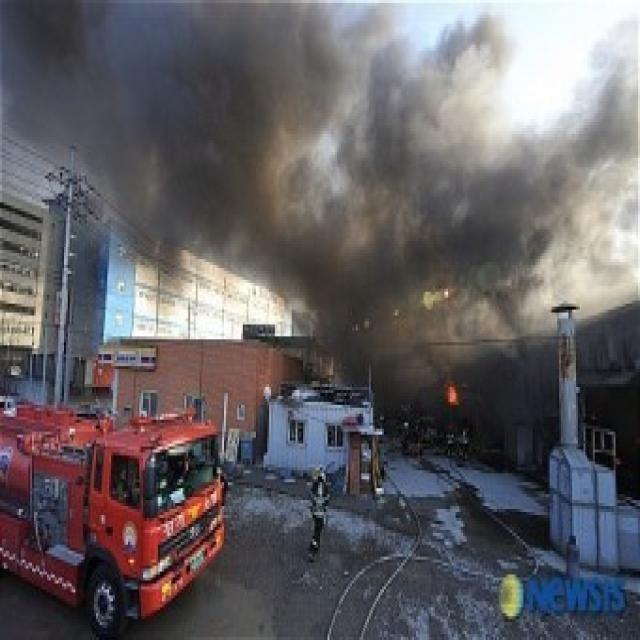Fire: (443, 378, 464, 408)
Smoke: (173, 1, 498, 348), (465, 33, 638, 302)
